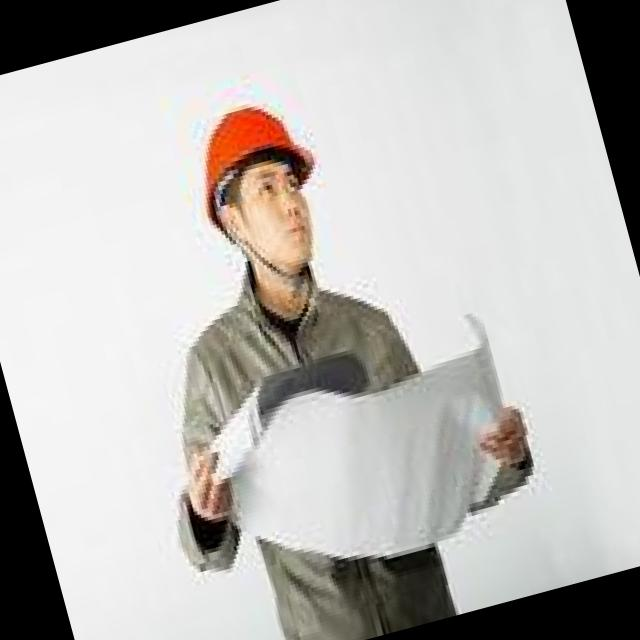helmet: (178, 80, 330, 214)
no-goggles: (205, 157, 326, 239)
no-vest: (160, 246, 480, 622)
